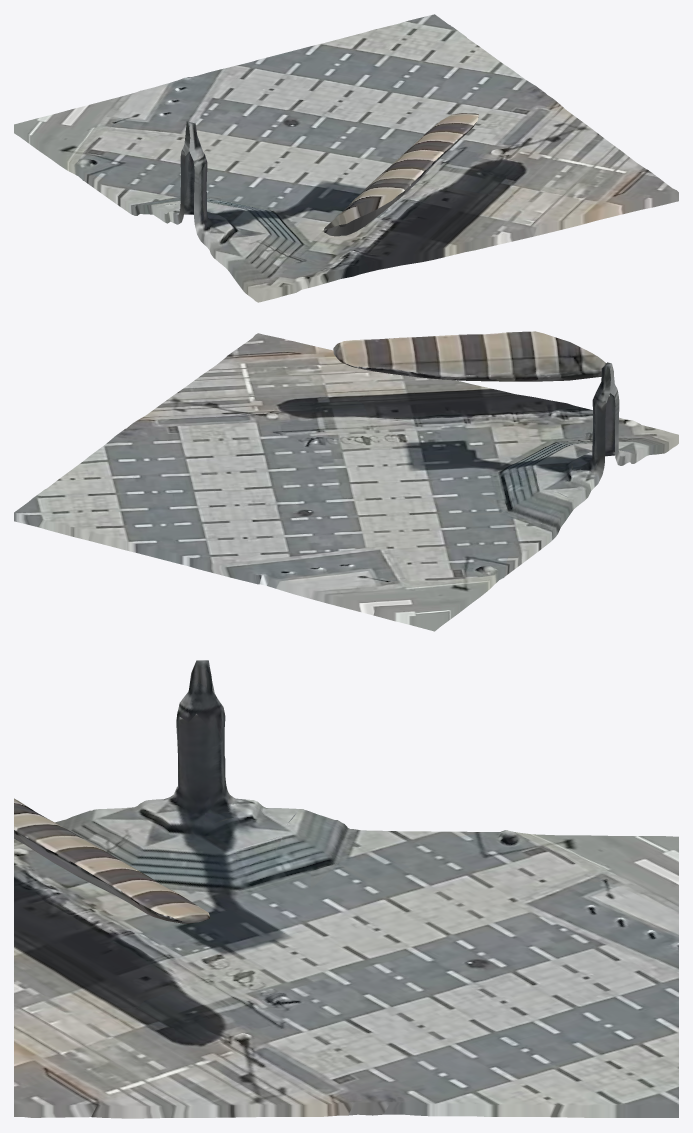
File: z20-167789-405222-h0-yup-uvflip-v3-world.glb
3 renders of one model, top to bottom at view 1: azimuth 30°, elevation 25°; view 2: azimuth 150°, elevation 25°; view 3: azimuth 270°, elevation 25°, orthographic. The views are drawn at different scales.
Size of the model in its own units: 30.16 by 9.48 by 30.32.
1 material, 1 textured.
